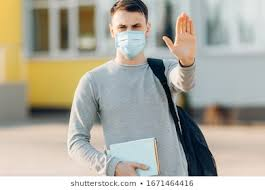masked: (105, 1, 155, 57)
